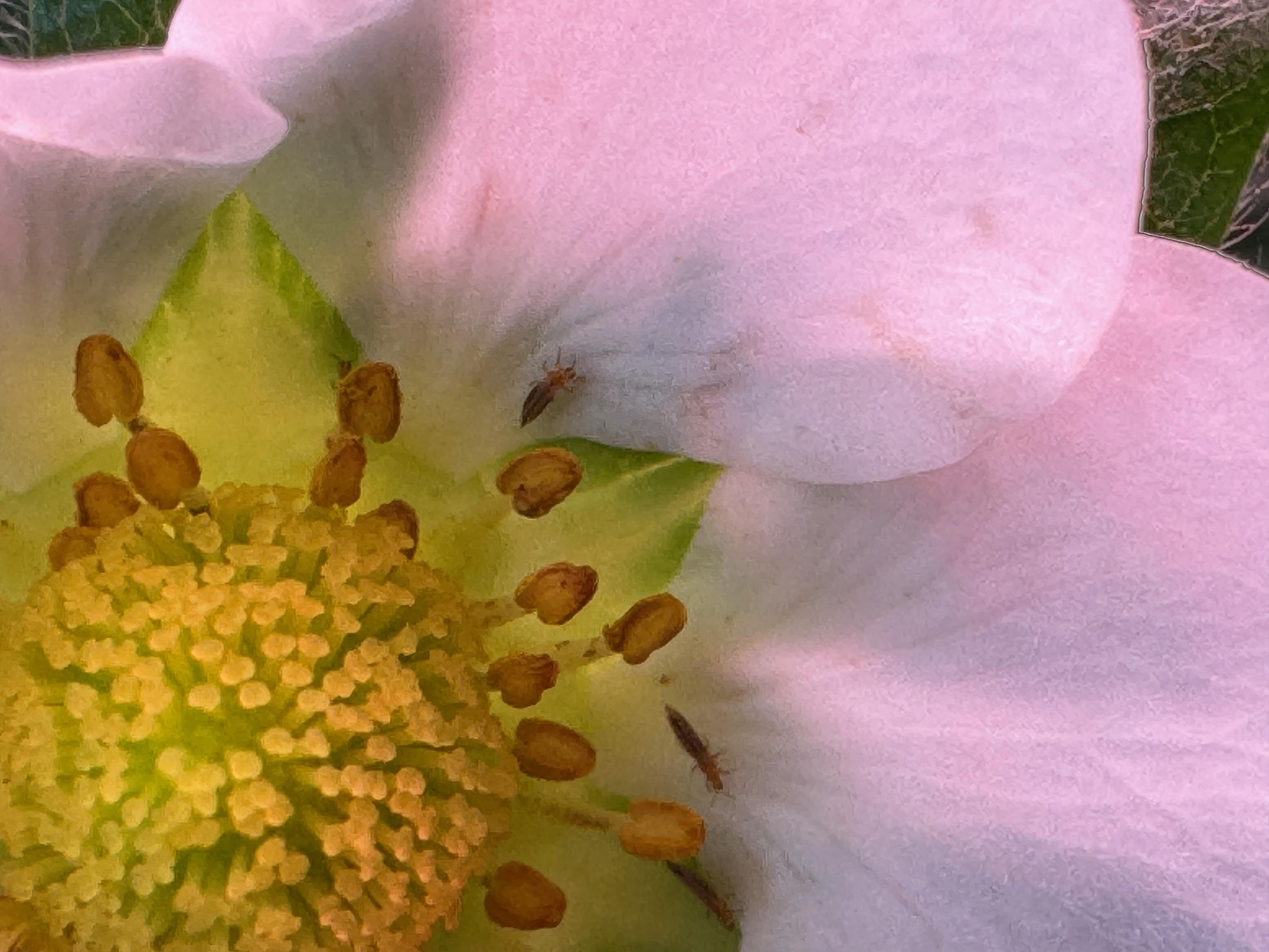tiny_pests: (478, 320, 606, 455), (639, 682, 768, 812)
